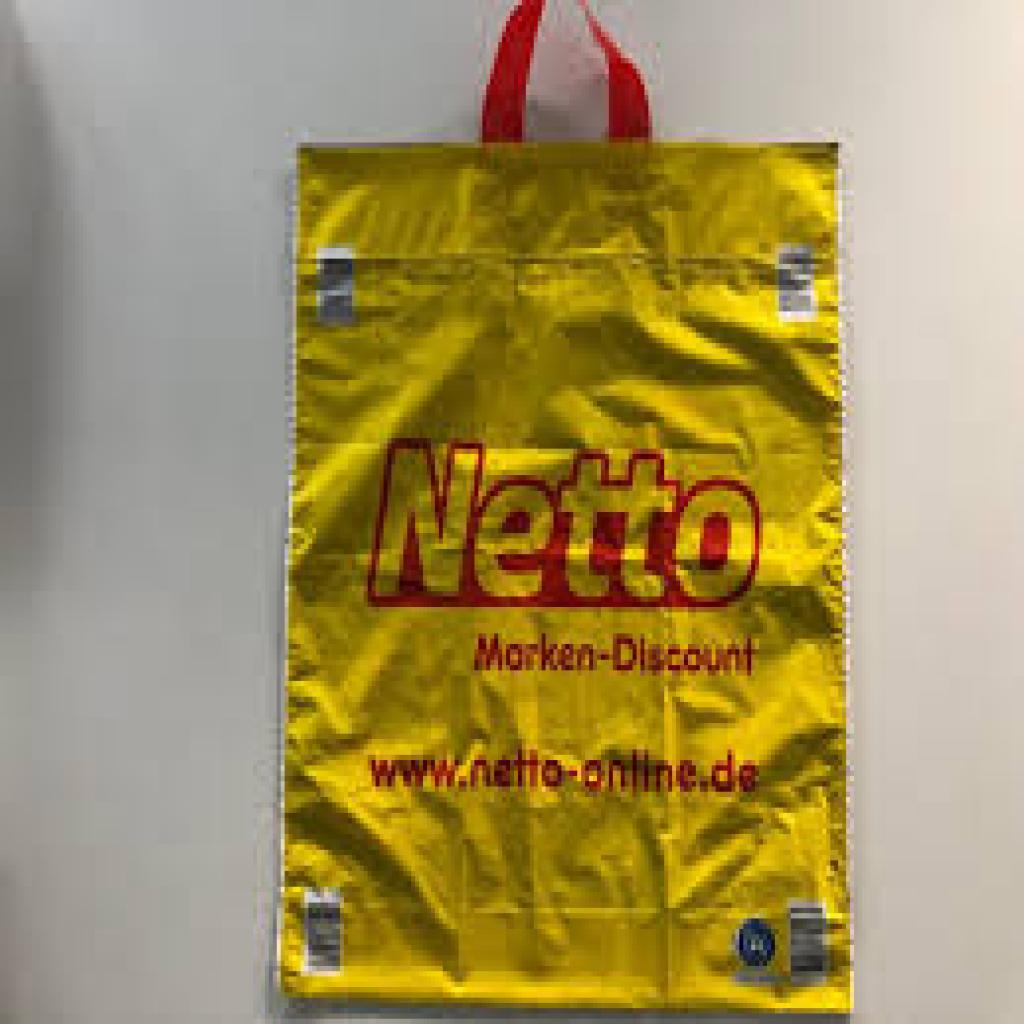plastic: (225, 1, 880, 1021)
